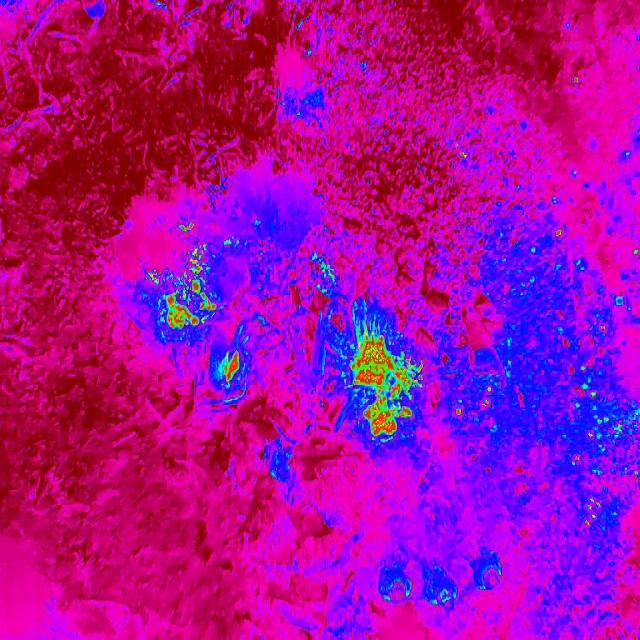fire: (551, 294, 640, 532), (348, 330, 426, 442), (146, 238, 220, 334), (452, 384, 496, 418), (218, 346, 242, 384), (454, 134, 474, 164), (552, 222, 574, 246), (177, 222, 196, 236)
